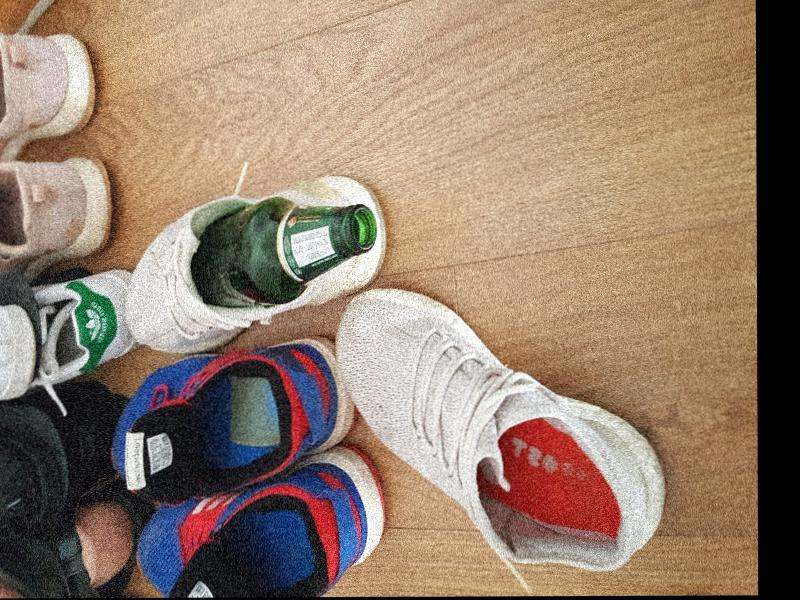Beer: (192, 197, 377, 309)
